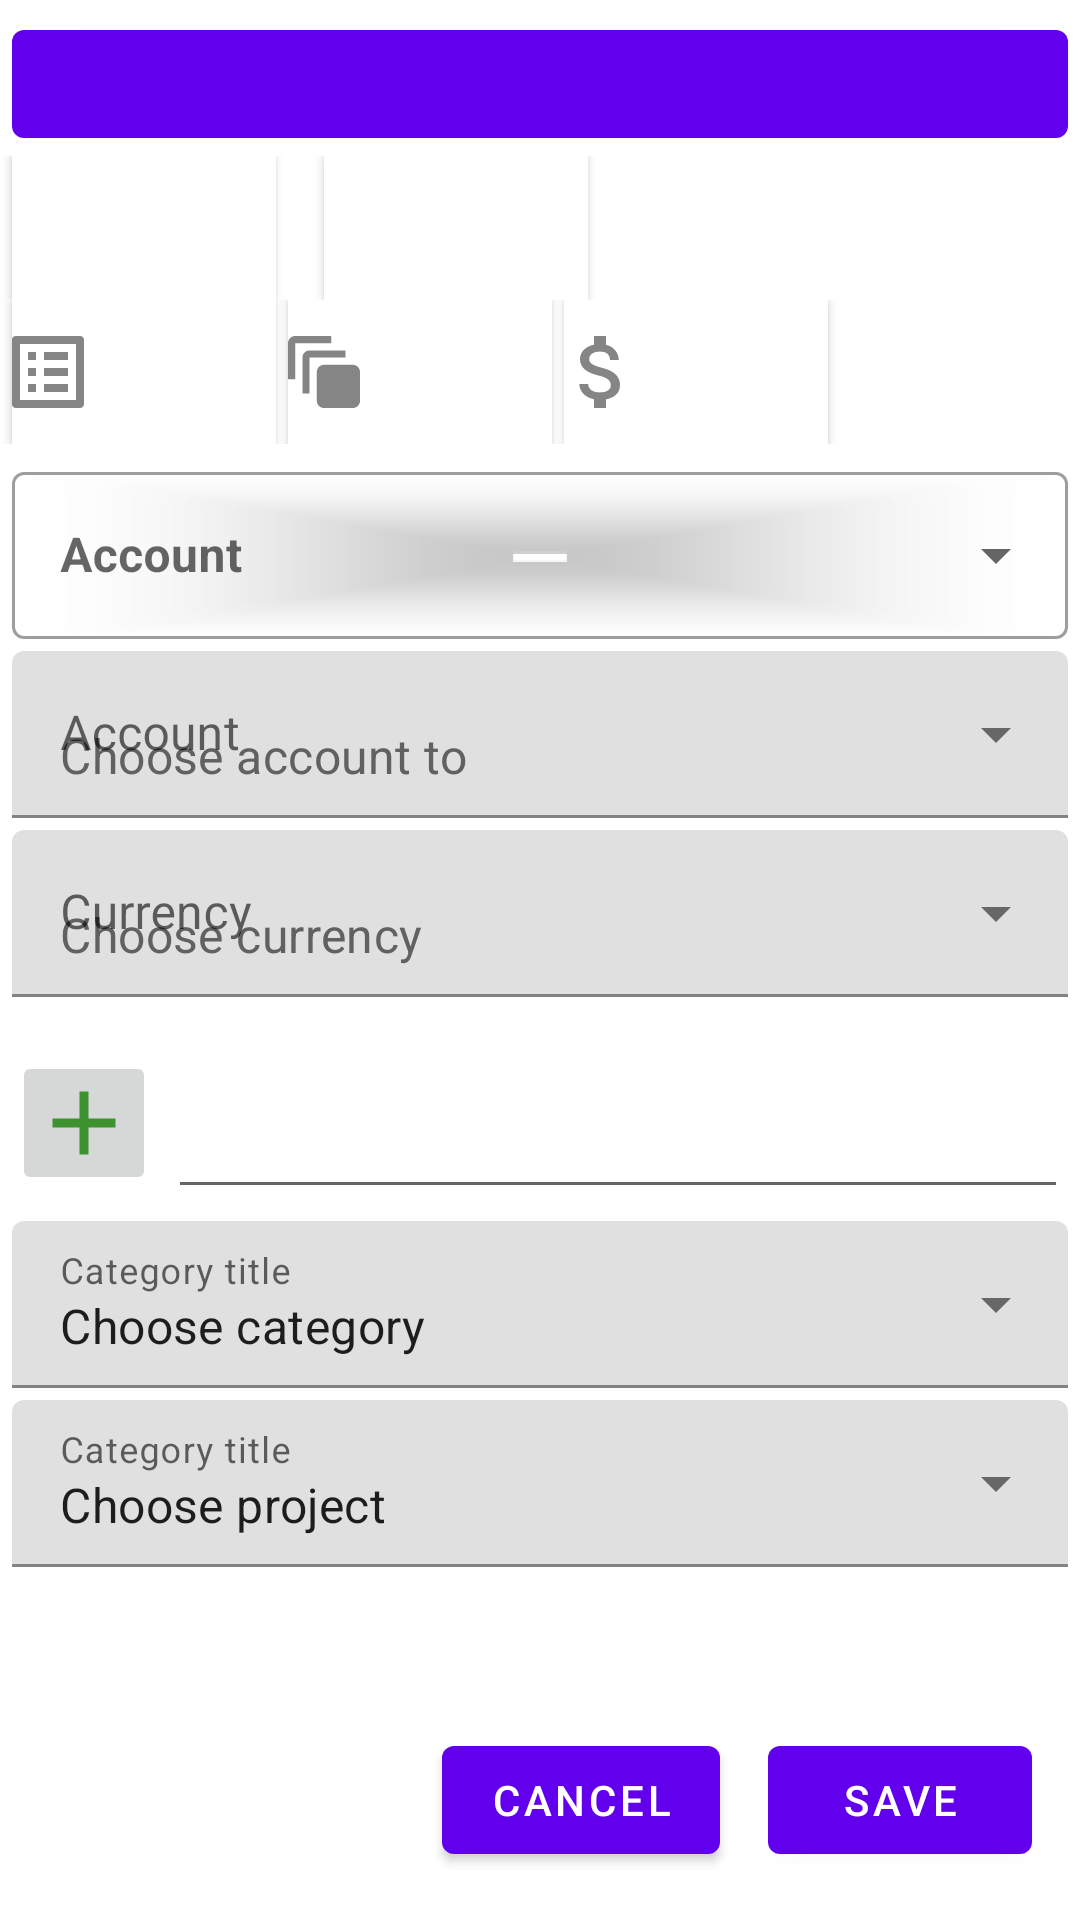

Point at icon controls on the screen. Image size 1080 x 1920, points as point (x, y).
income: point (84, 1123)
